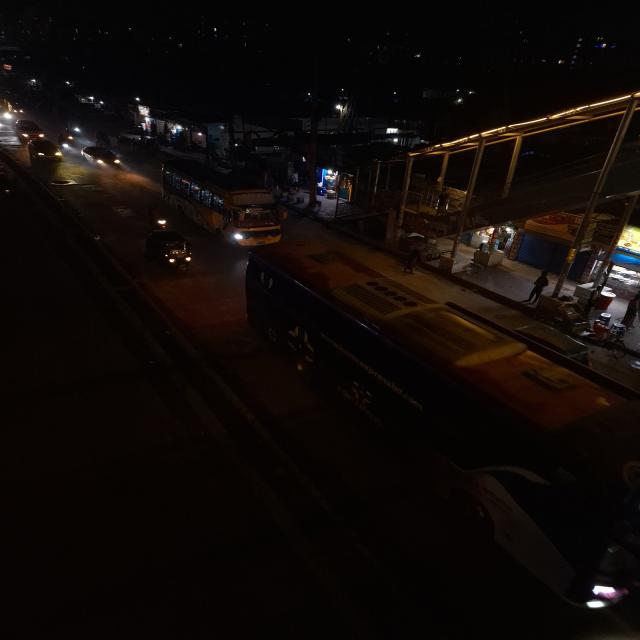bus: (236, 248, 498, 425), (156, 157, 288, 245)
car: (80, 144, 124, 171), (24, 138, 66, 164), (13, 118, 48, 142)
cng: (142, 228, 198, 276)
motorcycle: (146, 203, 171, 229), (0, 168, 13, 204)
